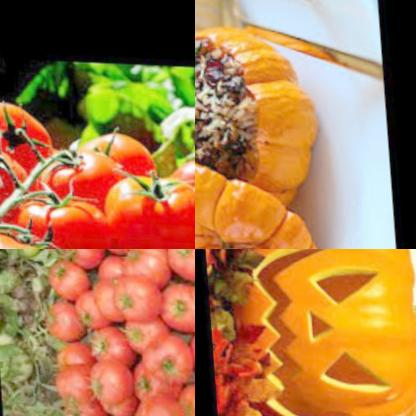pumpkin: (219, 249, 416, 416), (195, 18, 318, 212), (195, 156, 331, 249)
tomato: (91, 156, 195, 249), (28, 141, 125, 220), (0, 185, 109, 249), (78, 123, 156, 191), (0, 94, 58, 176), (134, 328, 188, 380), (41, 361, 94, 406), (76, 361, 127, 404), (105, 273, 153, 317), (0, 138, 27, 214), (36, 297, 82, 341), (123, 360, 170, 402), (171, 149, 195, 231), (157, 281, 195, 331), (112, 315, 162, 352), (39, 256, 83, 297), (119, 249, 172, 280), (84, 329, 126, 367), (69, 289, 103, 328), (157, 249, 195, 283), (123, 394, 181, 416), (177, 324, 195, 387), (49, 342, 85, 373), (53, 394, 100, 416), (165, 382, 195, 416), (49, 249, 99, 268)
